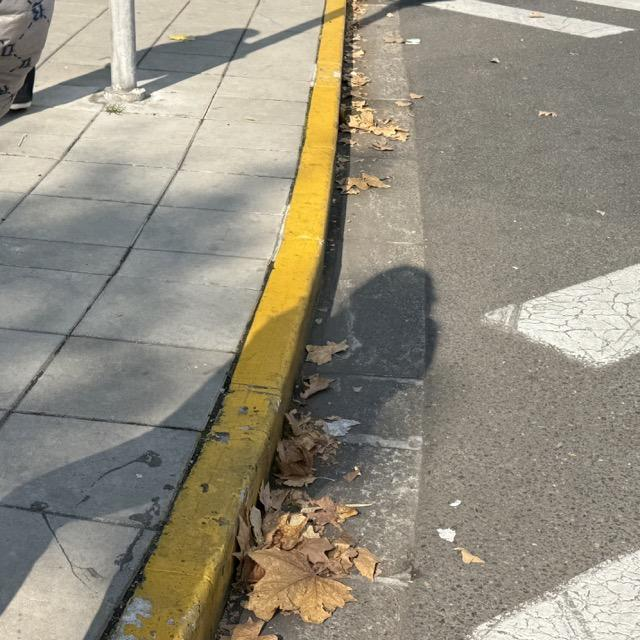curb: (108, 0, 347, 640)
